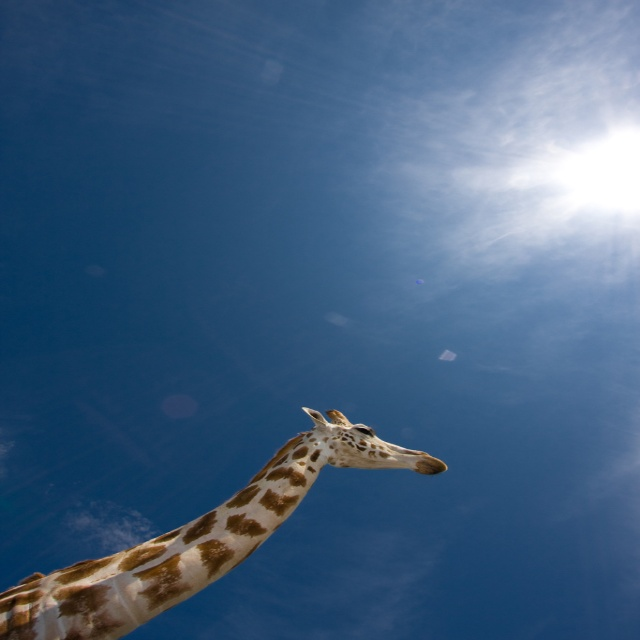Giraffe: (0, 410, 448, 639)
